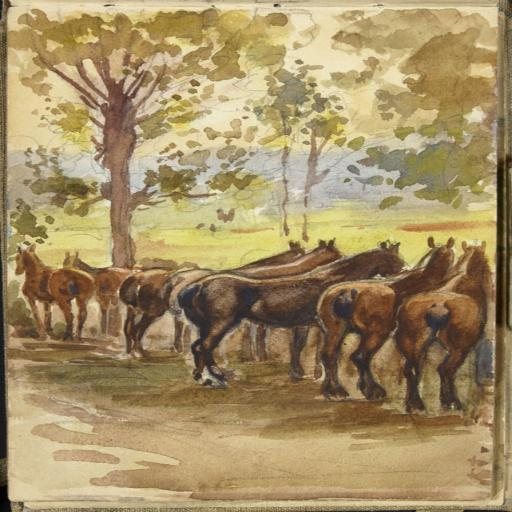horse: (15, 238, 494, 416)
